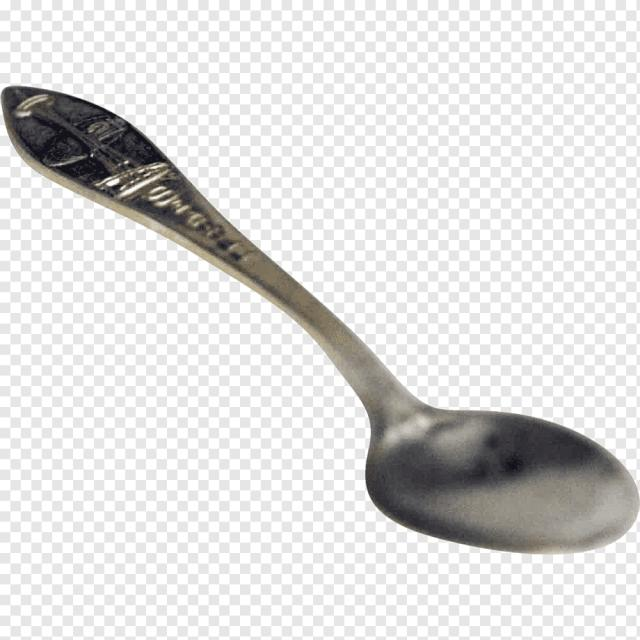Sendok: (7, 63, 635, 565)
